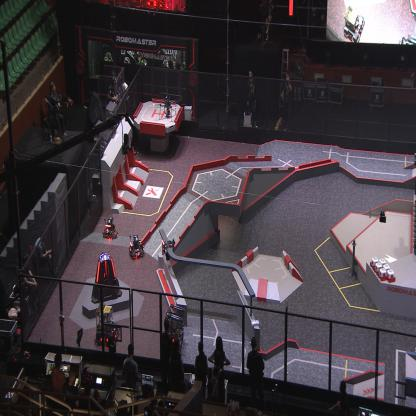car: (94, 300, 120, 348), (162, 302, 186, 350), (128, 233, 144, 261), (102, 217, 118, 241)
